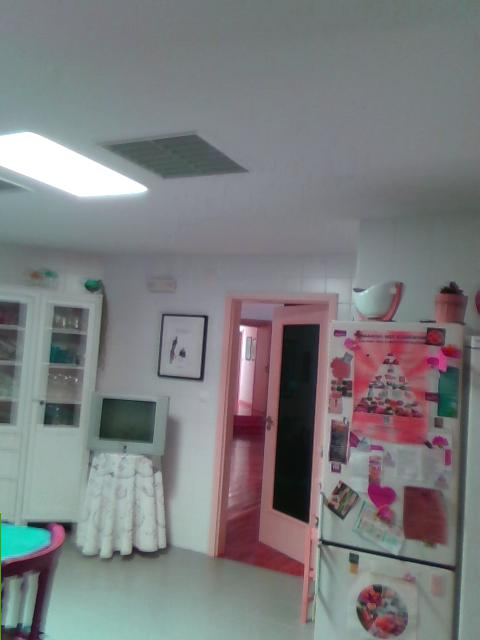semi_door: (208, 295, 331, 580)
